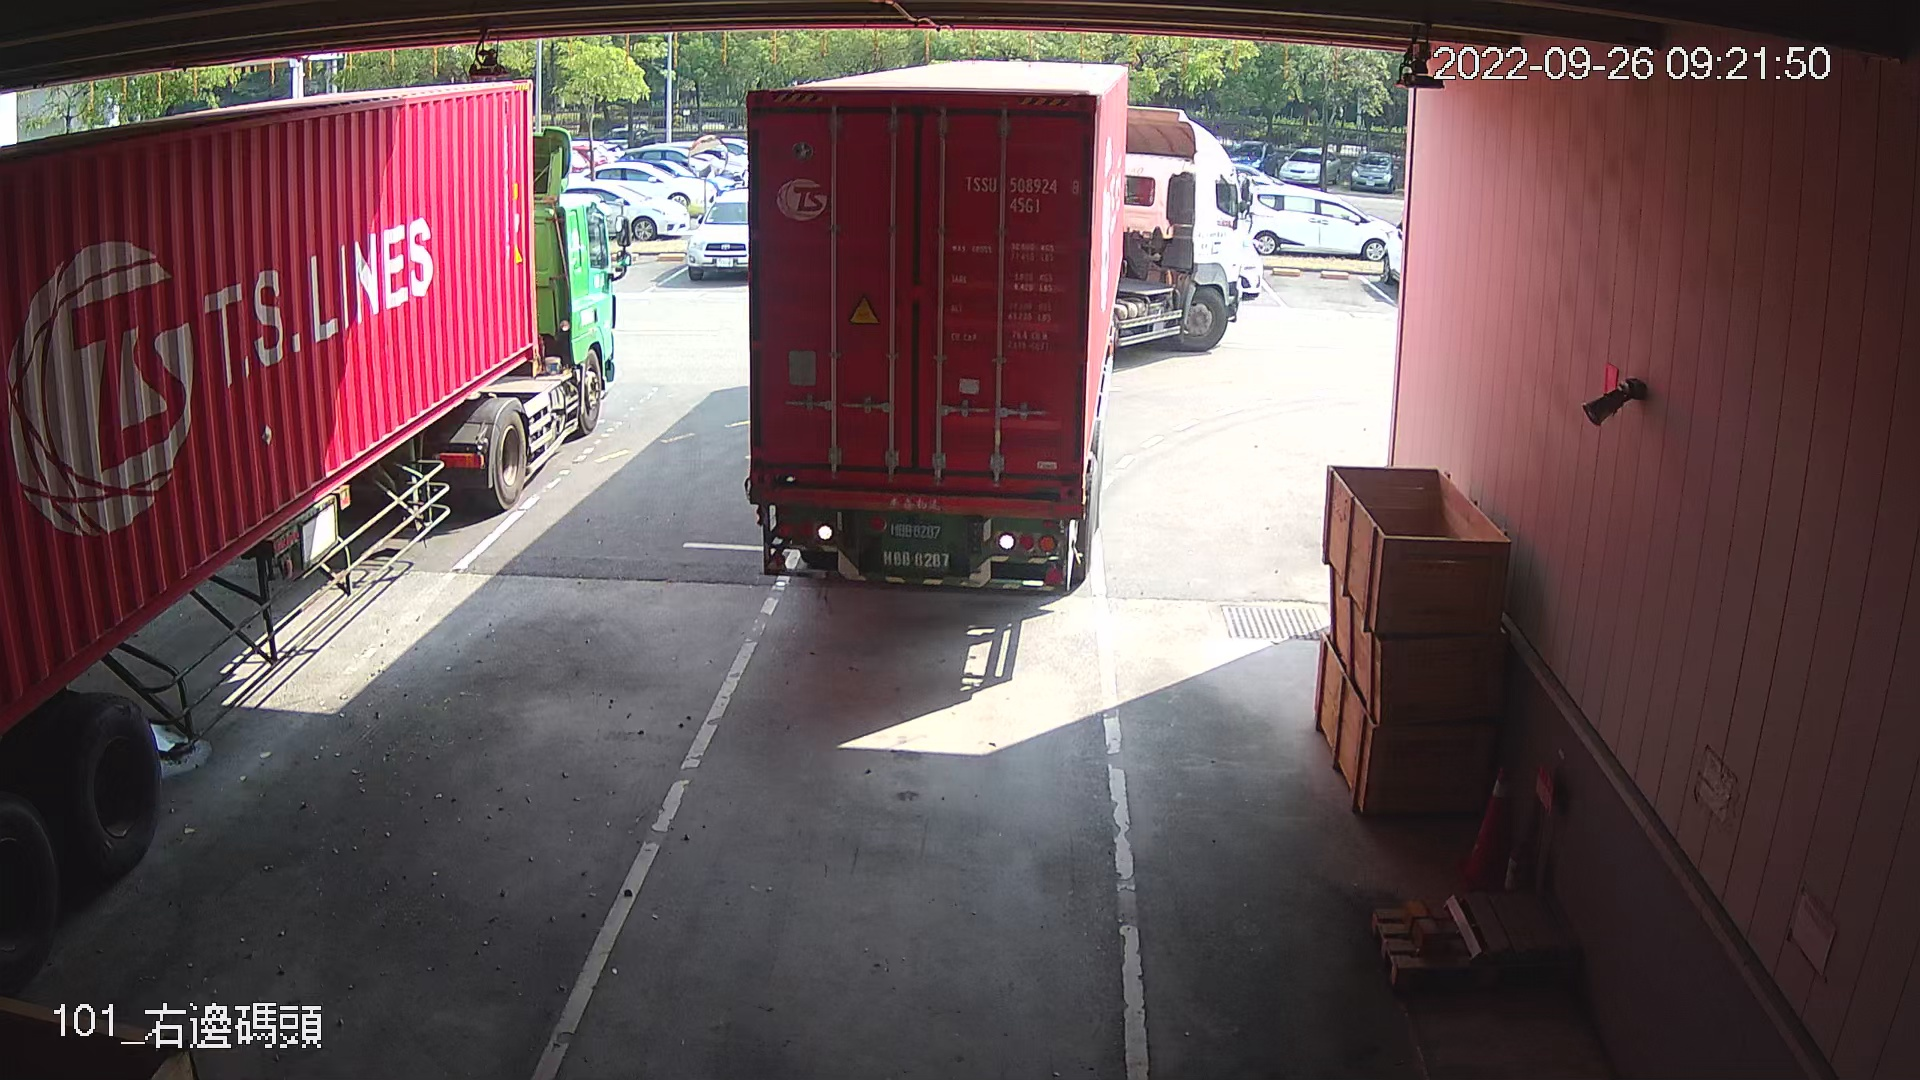container: (957, 167, 1085, 220)
